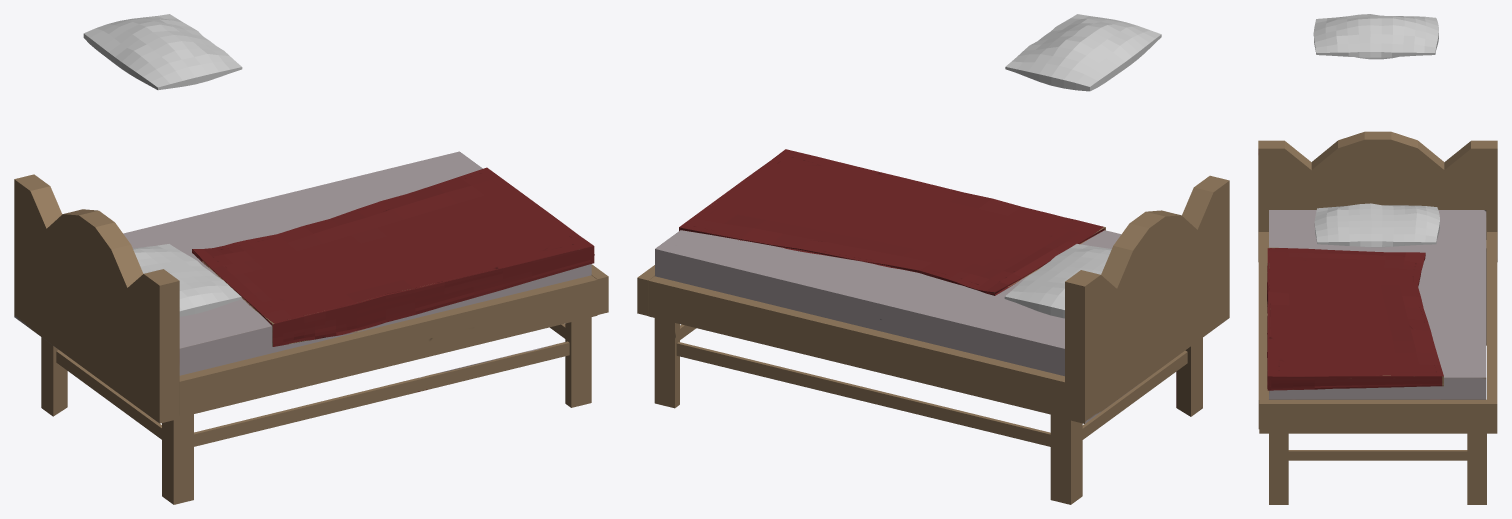
Rendered from krovat.fbx.
3 renders of one model, left to right at view 1: azimuth 30°, elevation 25°; view 2: azimuth 150°, elevation 25°; view 3: azimuth 270°, elevation 25°, orthographic. The views are drawn at different scales.
Parts seen in each view (by area): view 1: krovat, podyshkadobri, podyshkagrusni; view 2: krovat, podyshkadobri, podyshkagrusni; view 3: krovat, podyshkadobri, podyshkagrusni.
Boxes of the visible parts, x1,y1,x2,y2 form: krovat: [14, 151, 608, 504]; podyshkadobri: [83, 14, 242, 90]; podyshkagrusni: [133, 244, 241, 316]; krovat: [637, 149, 1229, 504]; podyshkadobri: [1005, 14, 1161, 91]; podyshkagrusni: [1004, 244, 1111, 318]; krovat: [1258, 131, 1497, 504]; podyshkadobri: [1313, 14, 1438, 59]; podyshkagrusni: [1314, 203, 1439, 247].
Bounding box in the file's own units: 2201 × 1924 × 1234.
